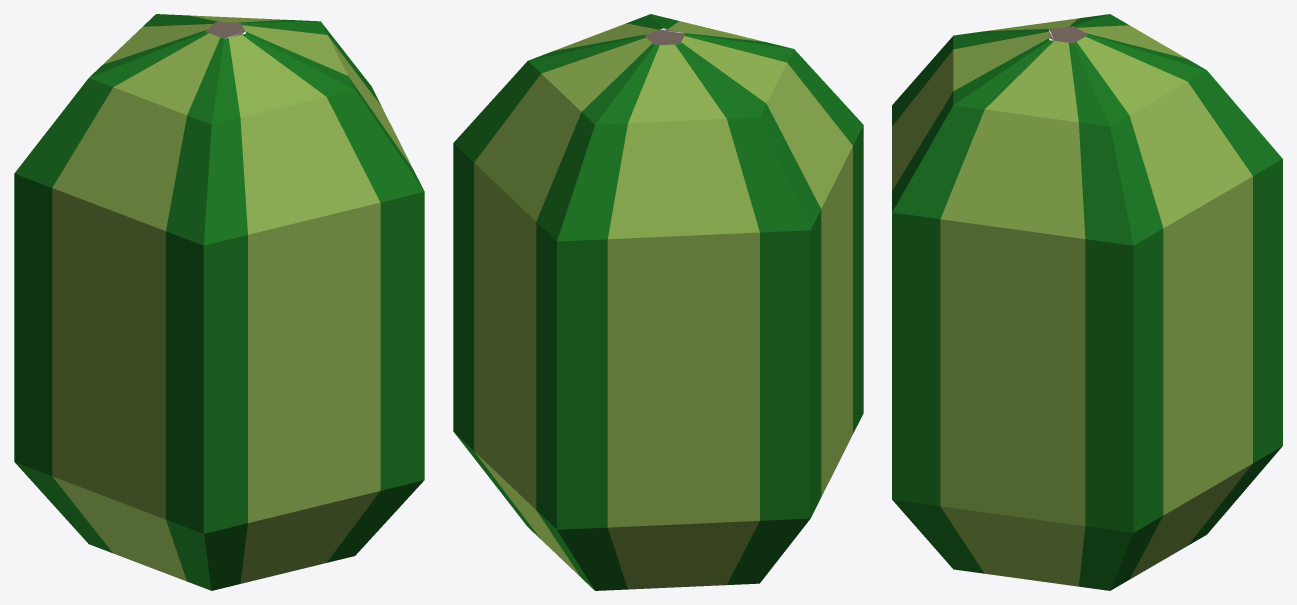
The model's file is 45_watermelon.glb.
3 renders of one model, left to right at view 1: azimuth 30°, elevation 25°; view 2: azimuth 150°, elevation 25°; view 3: azimuth 270°, elevation 25°, orthographic.
Visible parts, largest first — view 1: items/45_watermelon; view 2: items/45_watermelon; view 3: items/45_watermelon.
Part boxes in pixels (bbox=[...]): items/45_watermelon: bbox=[14, 14, 424, 590]; items/45_watermelon: bbox=[453, 14, 863, 590]; items/45_watermelon: bbox=[892, 14, 1282, 590].
Bounding box in the file's own units: 0.3994 × 0.5743 × 0.3799.
Materials: 1 (1 with a texture image).
